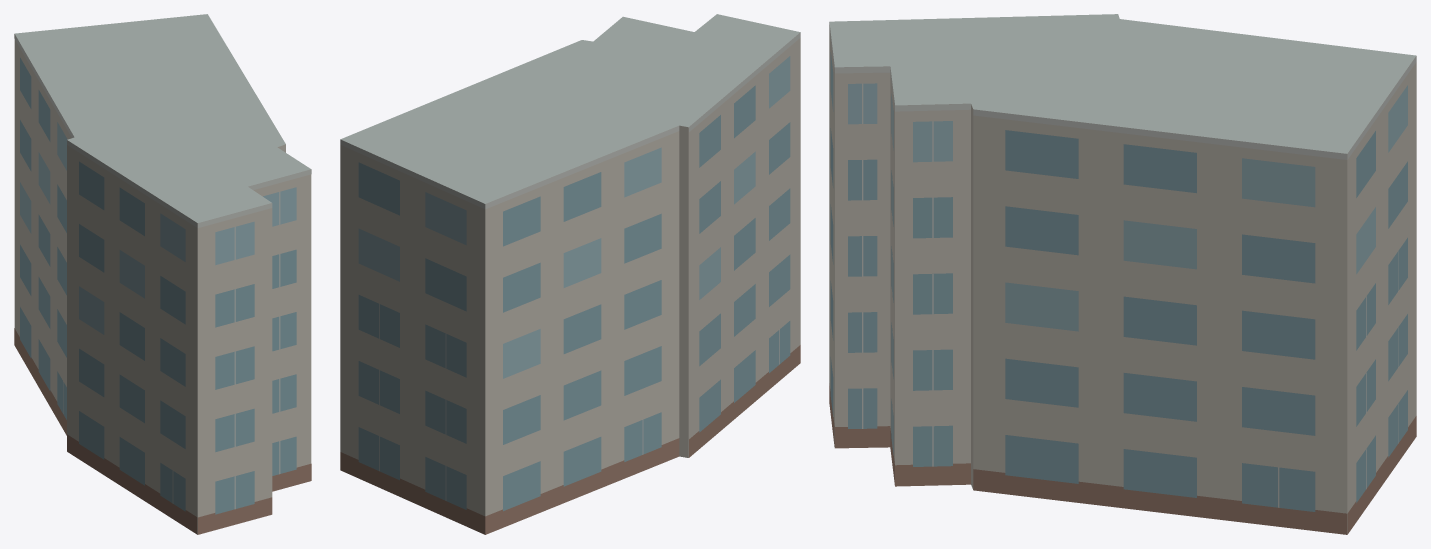
Rendered from survey-upis-32953225.glb.
3 views of the same model, side by side, from view 1: azimuth 30°, elevation 25°; view 2: azimuth 150°, elevation 25°; view 3: azimuth 270°, elevation 25° (orthographic). The views are drawn at different scales.
Visible parts, largest first — view 1: survey-upis-32953225.tmp; view 2: survey-upis-32953225.tmp; view 3: survey-upis-32953225.tmp.
Boxes of the visible parts, x1,y1,x2,y2 form: survey-upis-32953225.tmp: [14, 14, 311, 534]; survey-upis-32953225.tmp: [340, 14, 800, 534]; survey-upis-32953225.tmp: [829, 14, 1416, 534].
Bounding box in the file's own units: 11.85 × 15.04 × 21.01.
